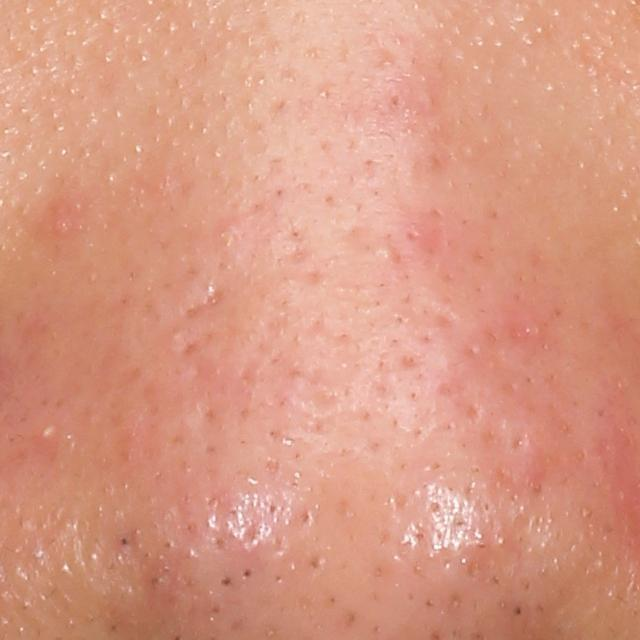atrophic_scar: (180, 278, 225, 322)
comedo: (216, 574, 234, 591), (239, 563, 255, 582)
pustule: (35, 420, 58, 443)
